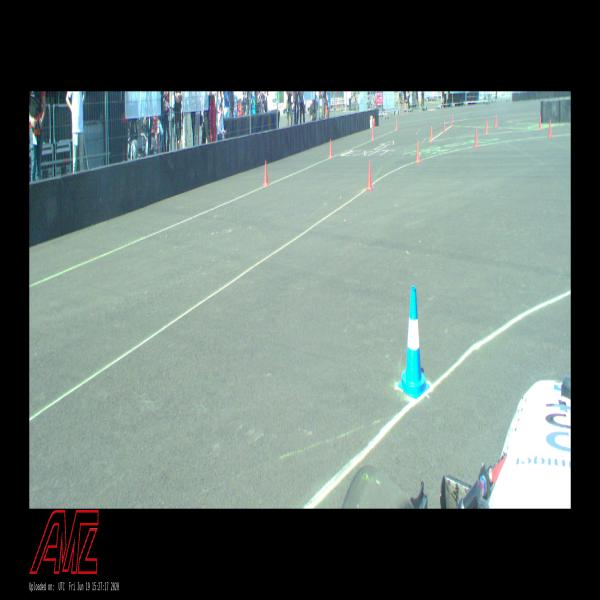blue_cone: (398, 286, 429, 399)
